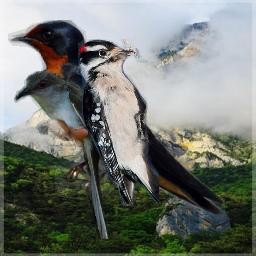Cuckoo: (14, 71, 117, 239)
Swallow: (8, 20, 225, 220)
Woodpecker: (78, 39, 159, 206)
